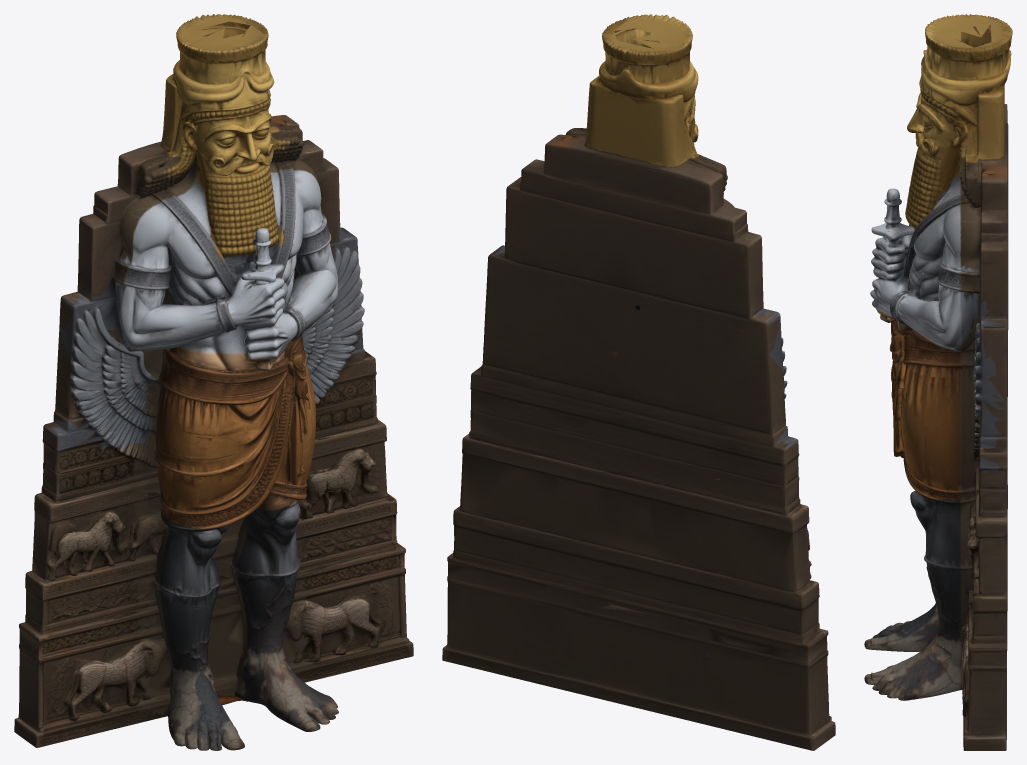
Rendered from statue_v11o_hd.glb.
3 renders of one model, left to right at view 1: azimuth 30°, elevation 25°; view 2: azimuth 150°, elevation 25°; view 3: azimuth 270°, elevation 25°, orthographic. The views are drawn at different scales.
Parts seen in each view (by area): view 1: backer_stone, chest_silver, belly_bronze, head_gold, legs_iron, feet_clay; view 2: backer_stone, head_gold; view 3: backer_stone, head_gold, chest_silver, belly_bronze, feet_clay, legs_iron.
Boxes of the visible parts, x1,y1,x2,y2 form: backer_stone: (14,115,413,747); chest_silver: (120,168,337,359); belly_bronze: (155,322,315,529); head_gold: (161,14,289,261); legs_iron: (158,500,300,663); feet_clay: (167,640,338,750); backer_stone: (442,128,835,750); head_gold: (585,14,699,165); backer_stone: (960,104,1008,750); head_gold: (905,14,1012,233); chest_silver: (870,176,960,351); belly_bronze: (876,309,960,500); feet_clay: (864,603,960,700); legs_iron: (910,490,960,633).
Bounding box in the file's own units: 0.5904 × 1 × 0.2117.
Materials: 1 (1 with a texture image).
